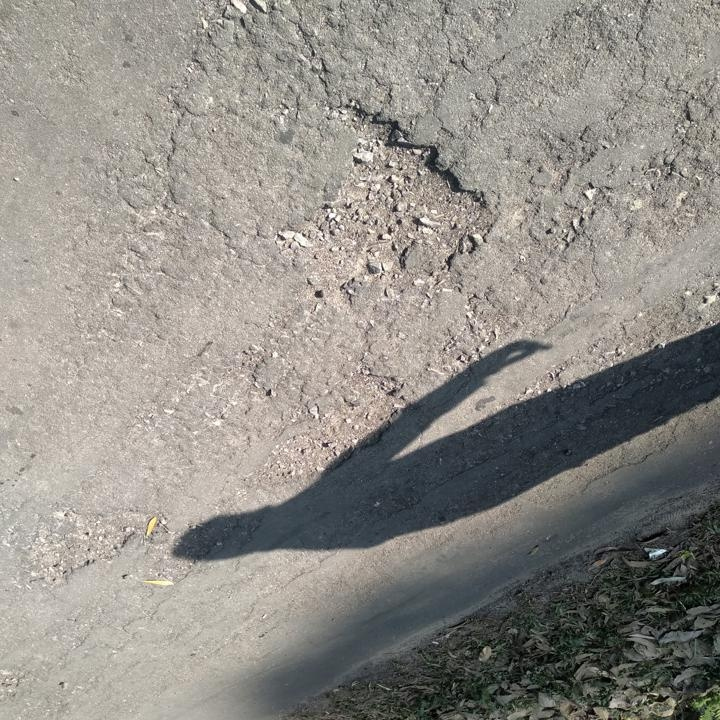pothole: (277, 102, 499, 298), (246, 370, 410, 490), (22, 509, 137, 585)
